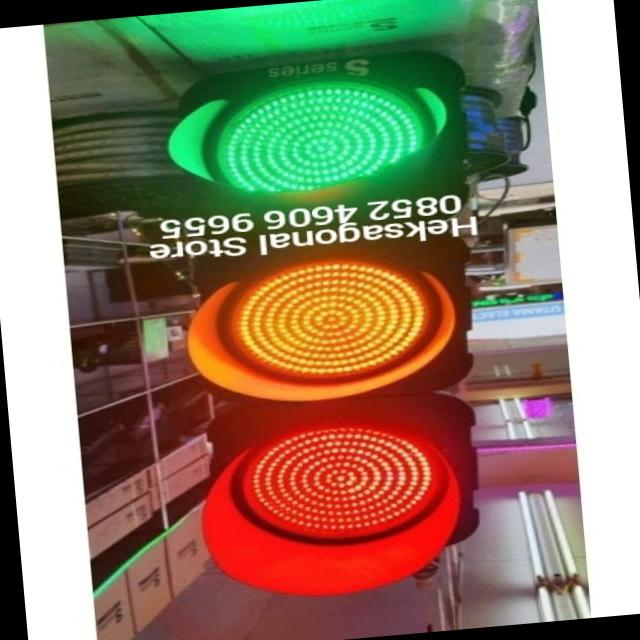green-lights: (212, 72, 422, 196)
red-lights: (238, 414, 447, 548)
yellow-lights: (224, 252, 431, 386)
